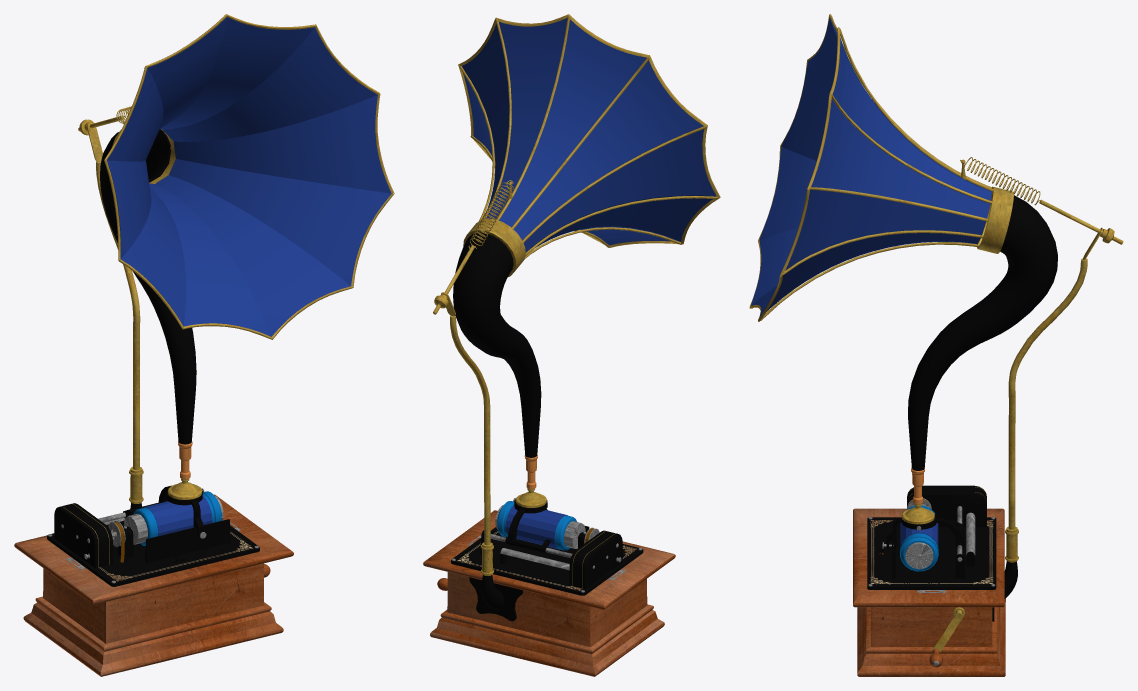
File: edison.glb
3 renders of one model, left to right at view 1: azimuth 30°, elevation 25°; view 2: azimuth 150°, elevation 25°; view 3: azimuth 270°, elevation 25°, orthographic. The views are drawn at different scales.
Parts seen in each view (by area): view 1: Body, Rotor; view 2: Body, Rotor; view 3: Body, Rotor, Crank.
Boxes of the visible parts, x1,y1,x2,y2 form: Body: [14, 14, 394, 676]; Rotor: [87, 491, 223, 546]; Body: [423, 14, 720, 676]; Rotor: [495, 501, 618, 550]; Body: [749, 14, 1123, 676]; Rotor: [900, 498, 938, 571]; Crank: [929, 610, 963, 667].
Bounding box in the file's own units: 0.4973 × 1.11 × 0.6055.
Materials: 9 (4 with a texture image).
